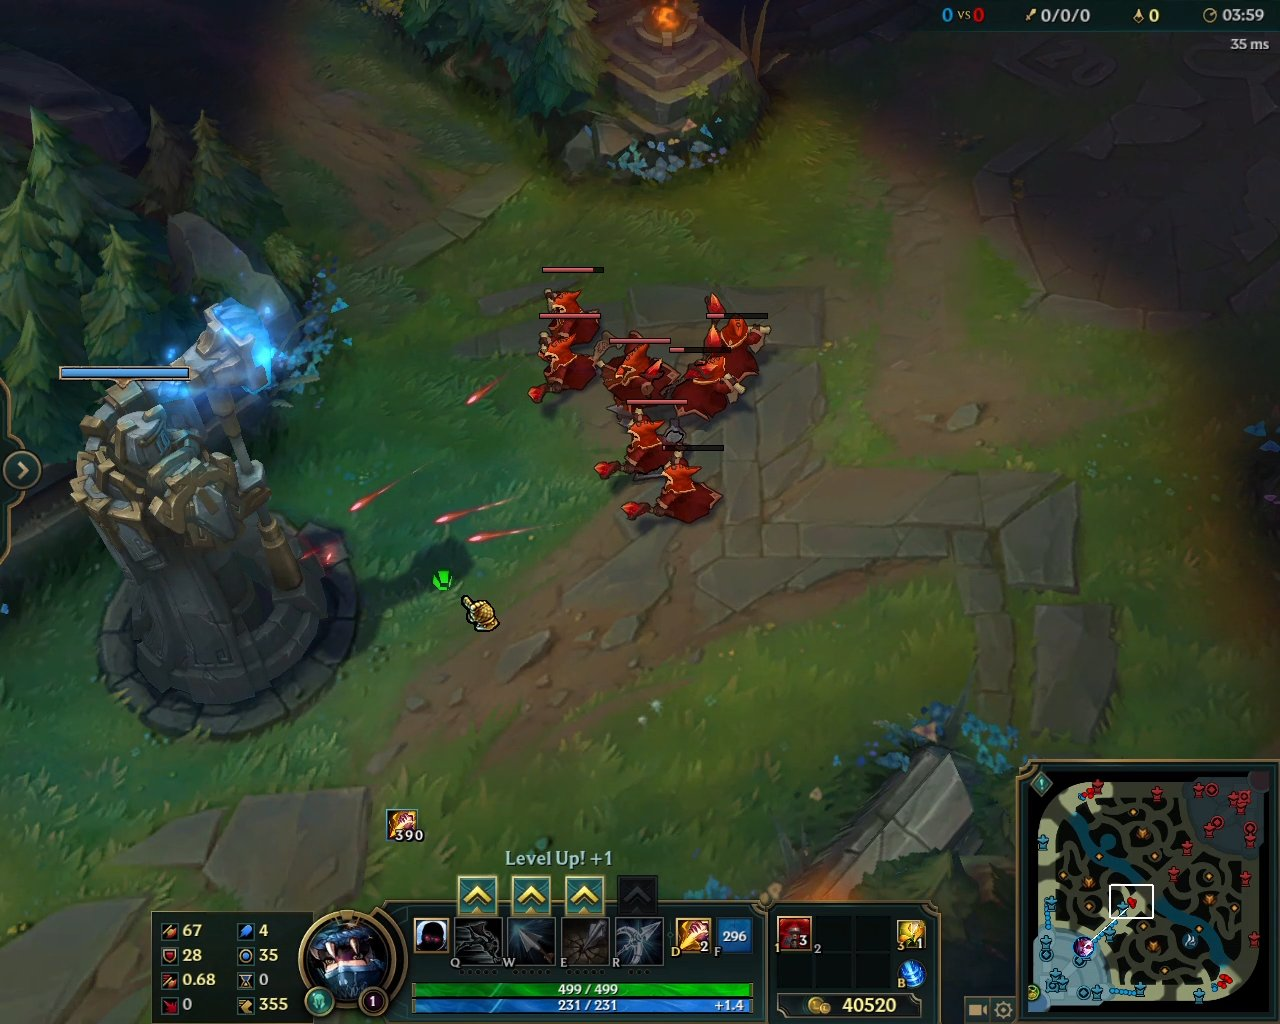EnemyMinion: (622, 444, 724, 529), (523, 311, 602, 408), (596, 399, 686, 479), (594, 333, 680, 416), (700, 293, 772, 380), (672, 344, 742, 425), (539, 266, 607, 346)
